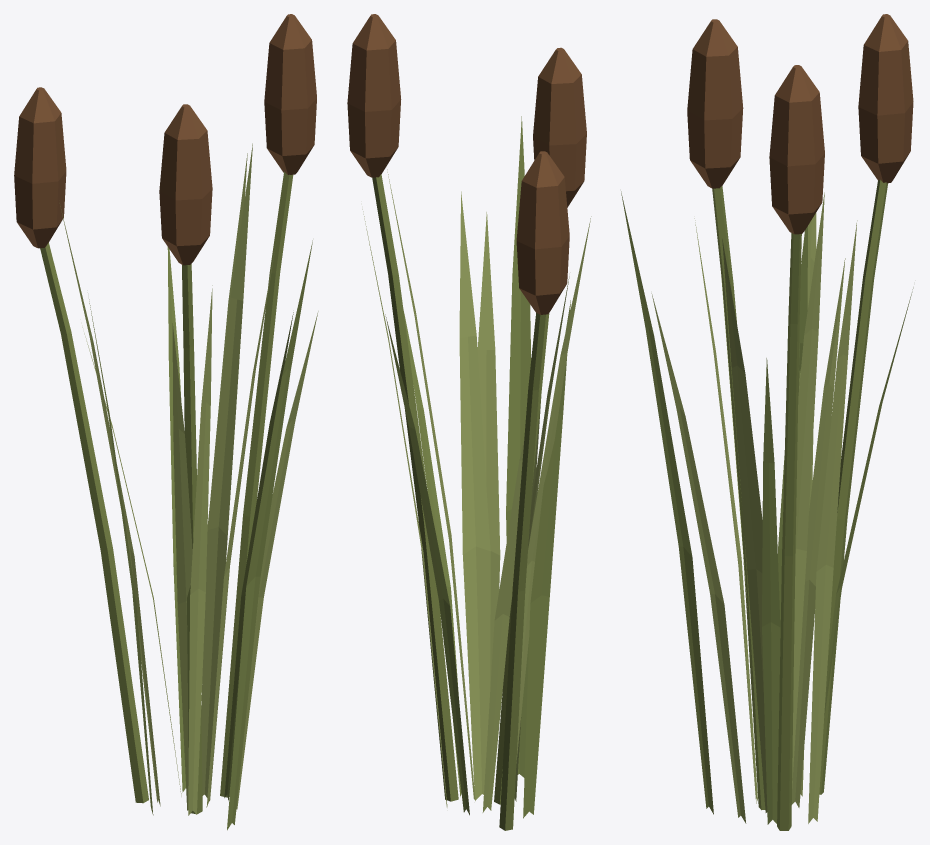
The model's file is reeds.glb.
3 renders of one model, left to right at view 1: azimuth 30°, elevation 25°; view 2: azimuth 150°, elevation 25°; view 3: azimuth 270°, elevation 25°, orthographic. The views are drawn at different scales.
Parts seen in each view (by area): view 1: reeds; view 2: reeds; view 3: reeds.
Part boxes in pixels (left/top/right/bottom): reeds: left=14, top=14, right=318, bottom=830; reeds: left=347, top=14, right=591, bottom=830; reeds: left=621, top=14, right=913, bottom=830.
Bounding box in the file's own units: 0.4873 × 1.4 × 0.4694.
